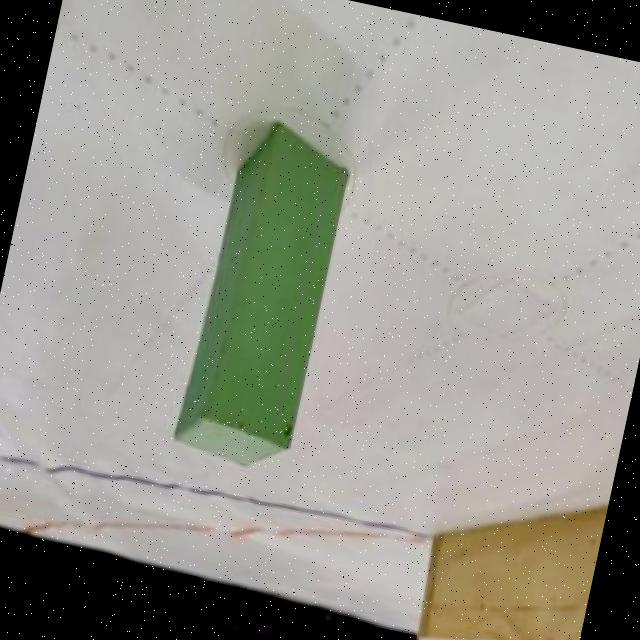greenbox: (164, 112, 356, 477)
